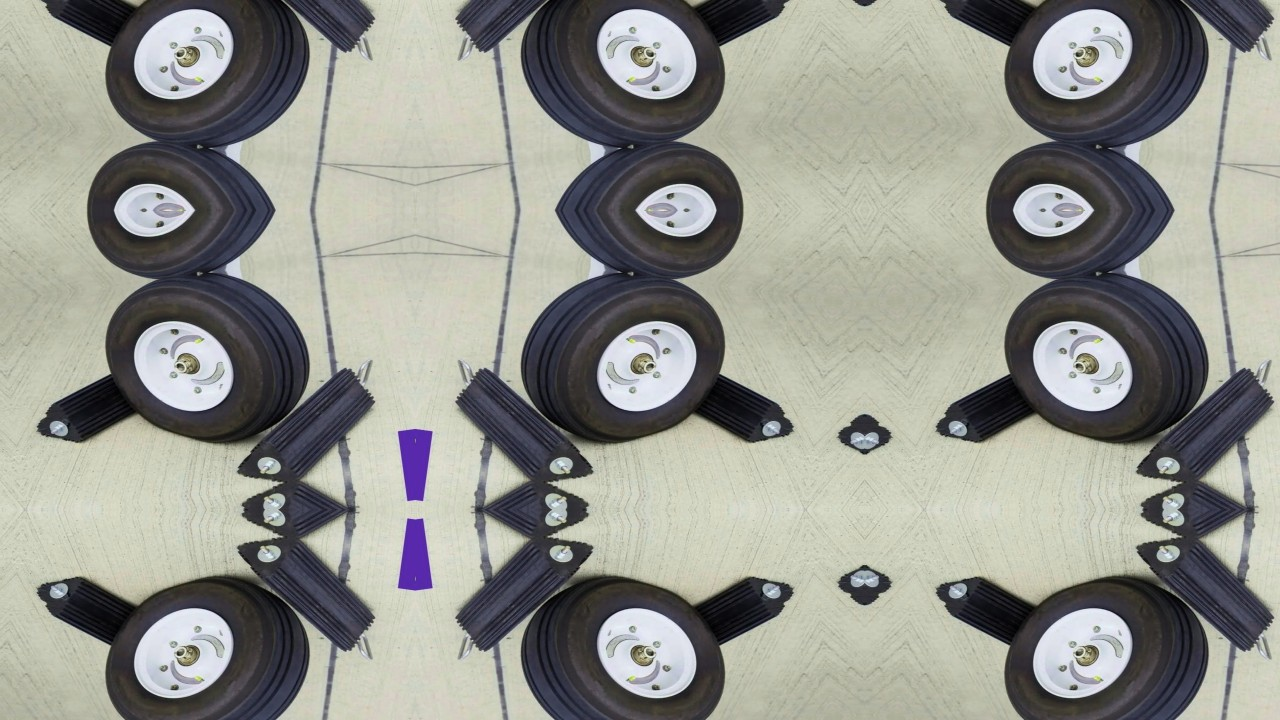chock: (224, 363, 385, 488), (445, 363, 606, 488), (224, 532, 385, 657), (445, 532, 606, 657), (1124, 363, 1280, 488), (1124, 532, 1280, 657), (29, 363, 170, 449), (660, 363, 801, 449), (929, 363, 1070, 449), (29, 571, 170, 657), (660, 571, 801, 657), (929, 571, 1070, 657), (224, 0, 385, 57), (445, 0, 606, 57), (1124, 0, 1280, 57), (29, 0, 170, 57), (660, 0, 801, 57), (929, 0, 1070, 57), (239, 469, 400, 510), (430, 469, 591, 510), (239, 510, 400, 551), (430, 510, 591, 551), (1139, 469, 1280, 510), (1139, 510, 1280, 551)
wheel: (97, 261, 316, 456), (514, 261, 733, 456), (997, 261, 1216, 456), (97, 0, 316, 159), (514, 0, 733, 159), (997, 0, 1216, 159), (97, 564, 316, 720), (514, 564, 733, 720), (997, 564, 1216, 720), (74, 133, 293, 210), (537, 133, 756, 210), (974, 133, 1193, 210), (74, 210, 293, 287), (537, 210, 756, 287), (974, 210, 1193, 287)
